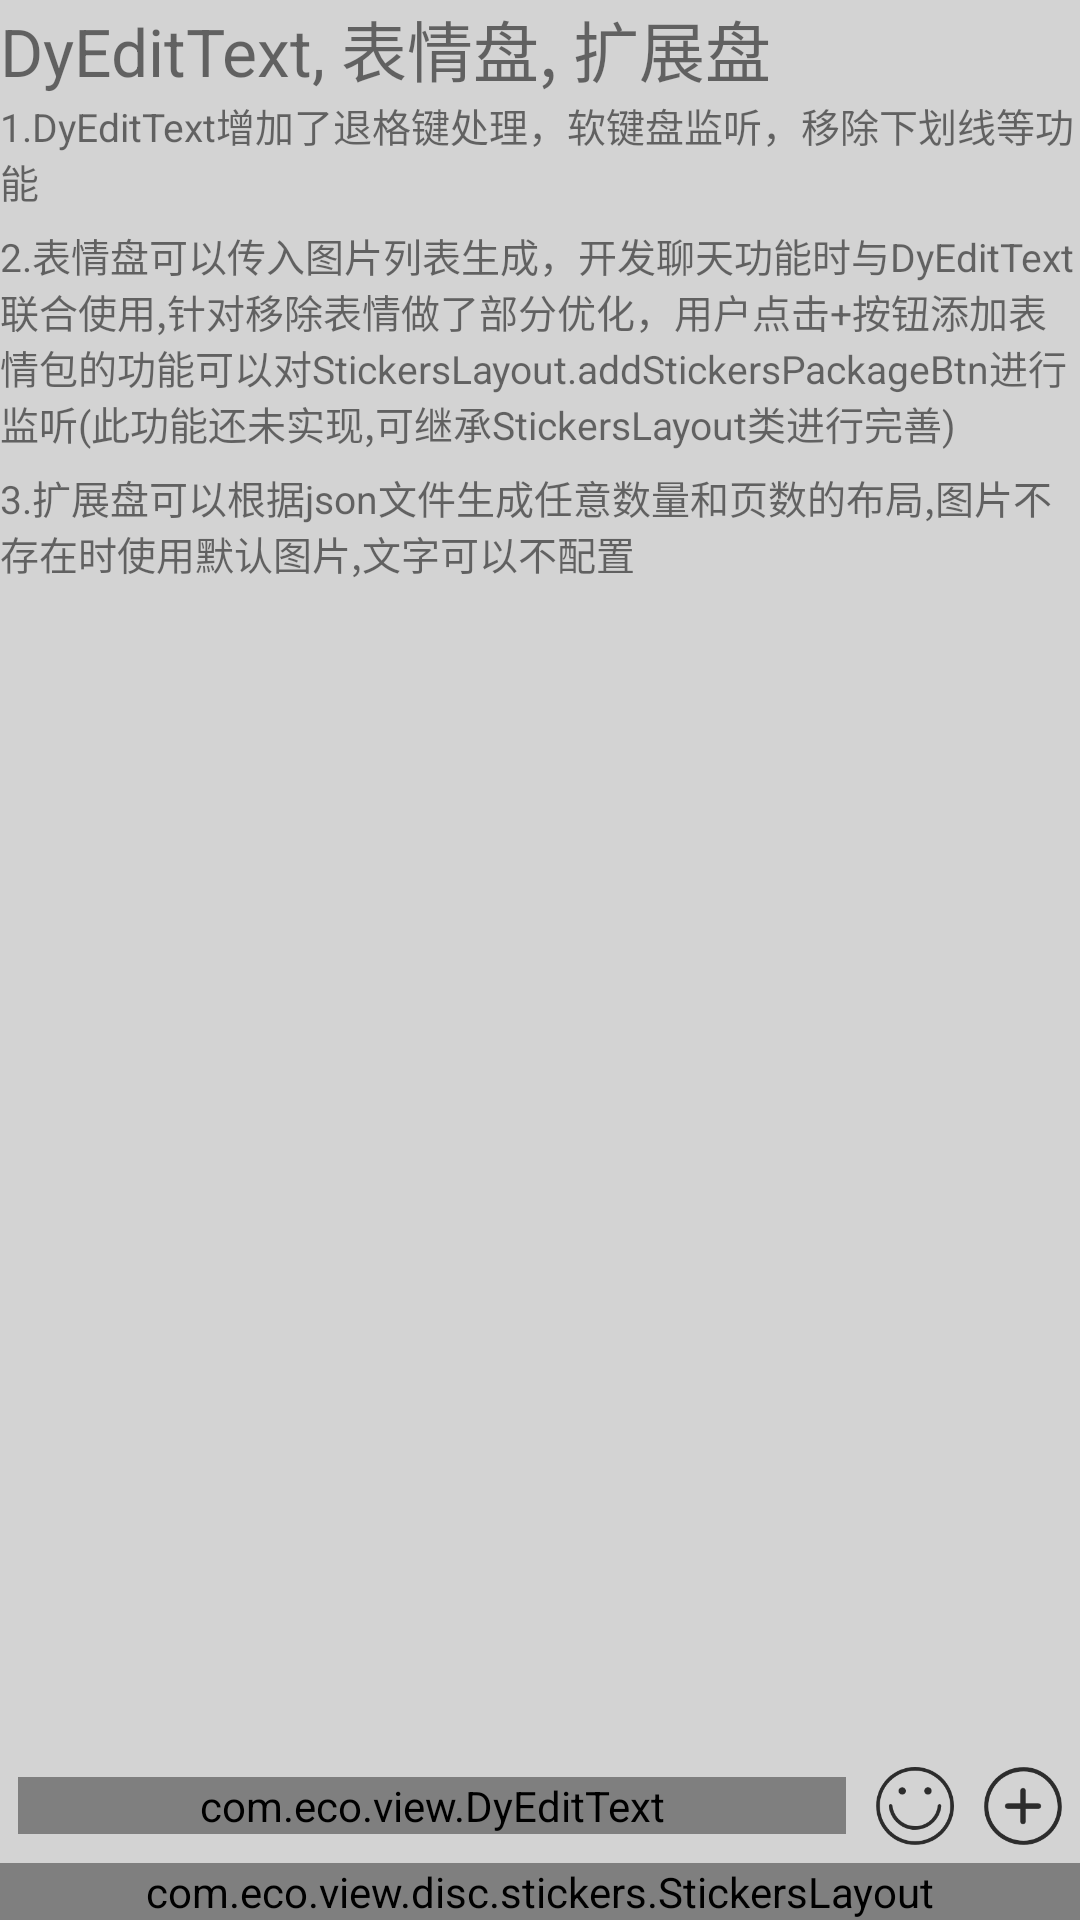

Icon click points for this 1080px x 1920px phone screenshot, format point (x, y):
plus circle: point (1023, 1806)
